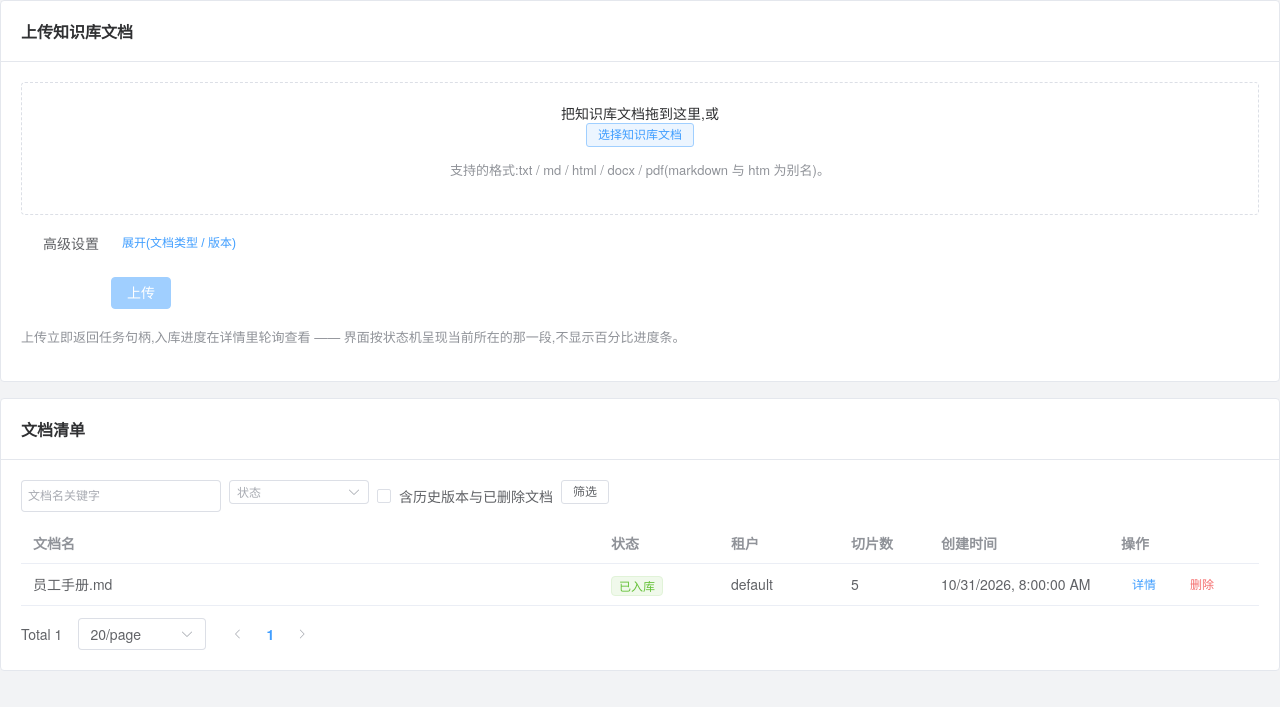
it: 知识库文档页组件行为 › 失败可恢复 › 文档停在已切片时提供重试向量化入口
The image size is (1280, 707).
Expected: the row "员工手册.md 已入库 default 5 10/31/2026, 8:00:00 AM 详情 删除" is shown, [21,564,1259,606]
Click the button with test id "documents-detail-doc-1" at (1144, 585), box [1121,573,1167,597]
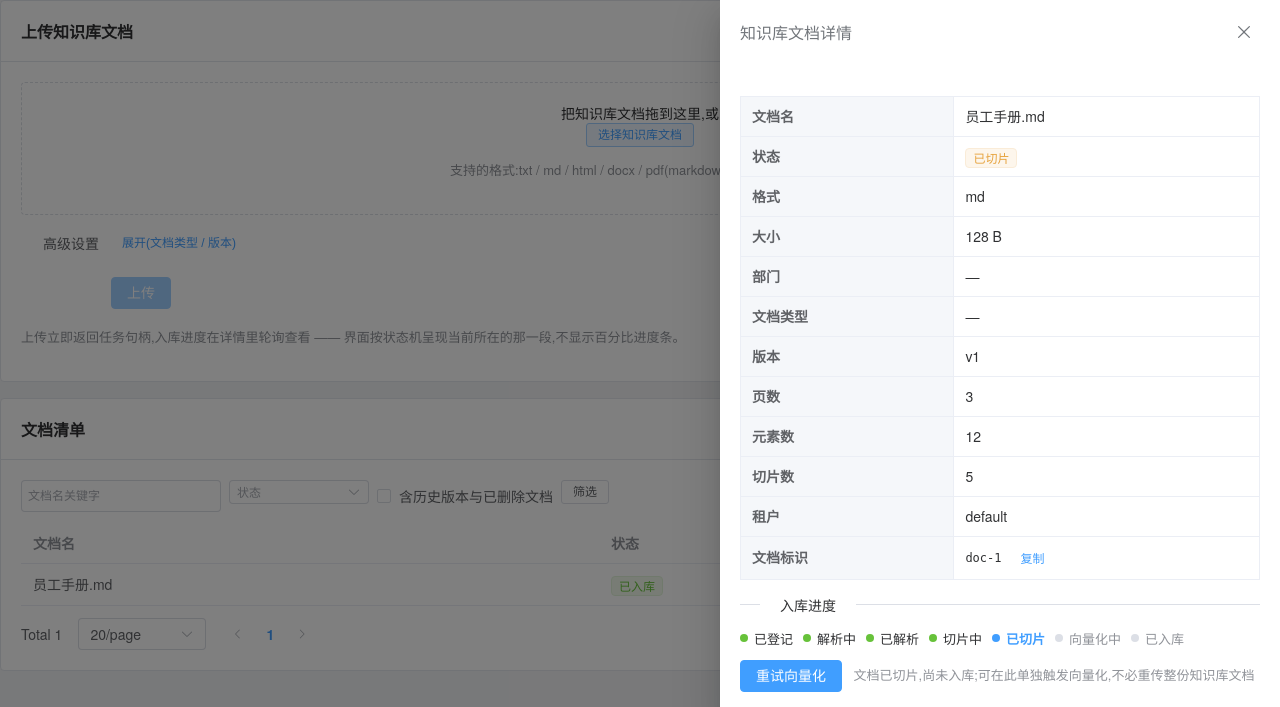
Now the button with test id "documents-retry-embedding" is shown, box [740,660,842,692]
